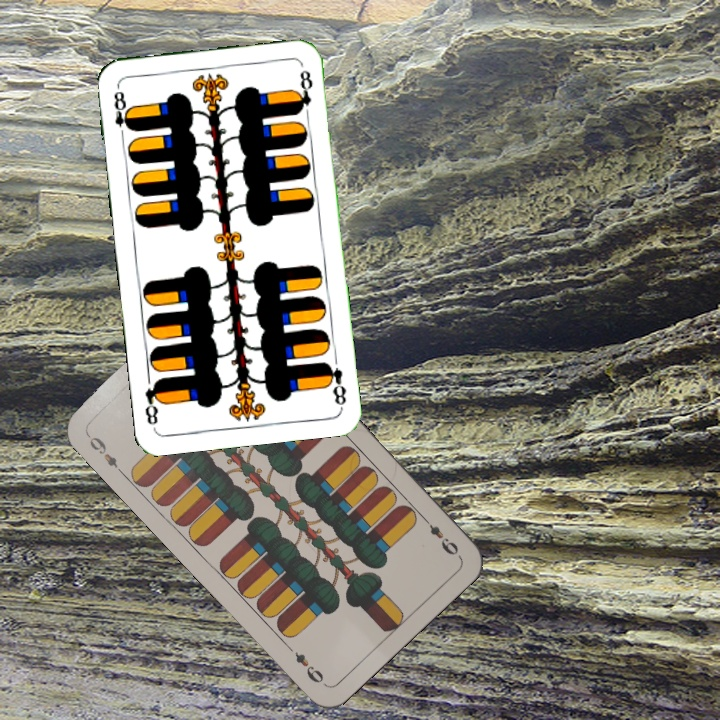E8: (109, 82, 135, 142), (321, 358, 349, 409)
E9: (82, 429, 127, 477), (418, 512, 462, 558)
